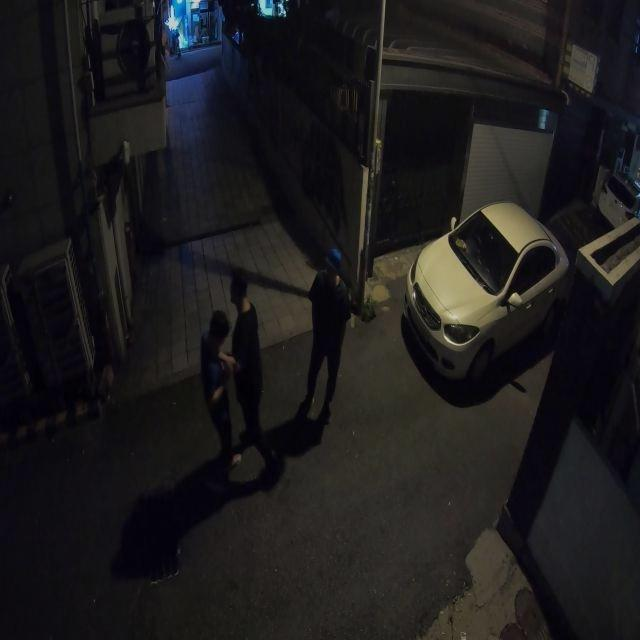fight: (201, 276, 269, 481)
non-fight: (300, 252, 363, 428)
